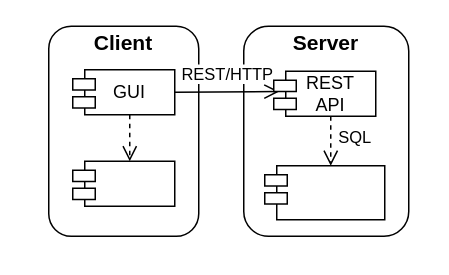
Image size: 449x275. Some labels were removed from this diagram. The box of each missing label's shape, as (x1, y1, x2, y2) in pixels:
Cache: (83, 160, 175, 206)
Database: (275, 164, 385, 220)
